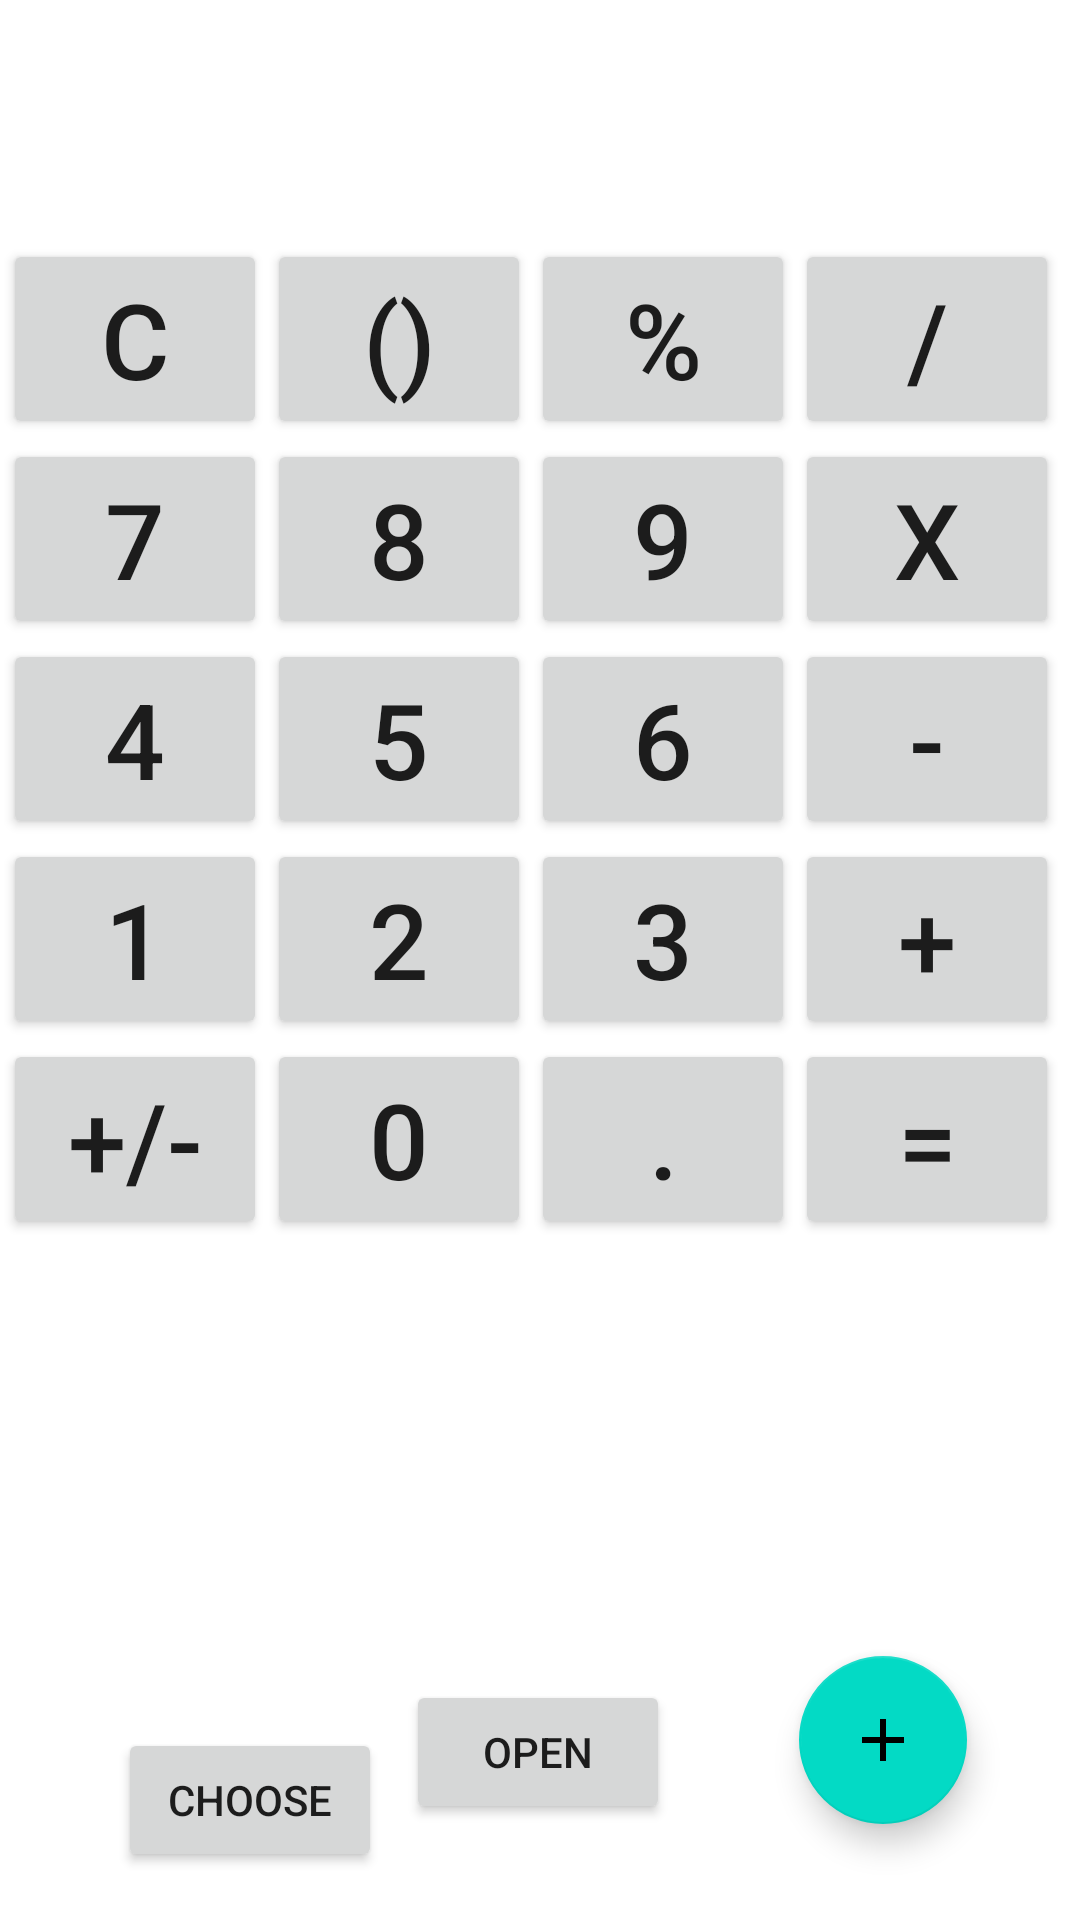

Locate icon controls on the screen. Image size 1080*1920, boxes as (x1=x1, y1=y1, x2=x2, y2=y2).
add: (x1=799, y1=1656, x2=967, y2=1824)
